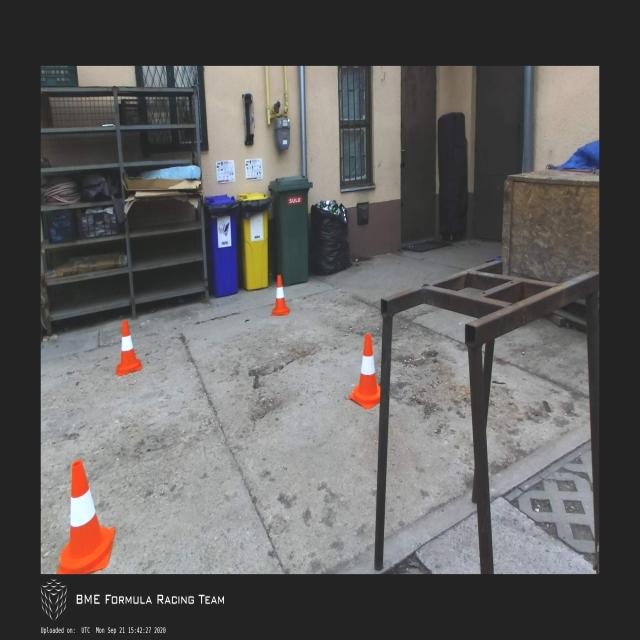orange_cone: (57, 459, 115, 574), (349, 333, 381, 409), (116, 320, 142, 376), (270, 274, 290, 316)
